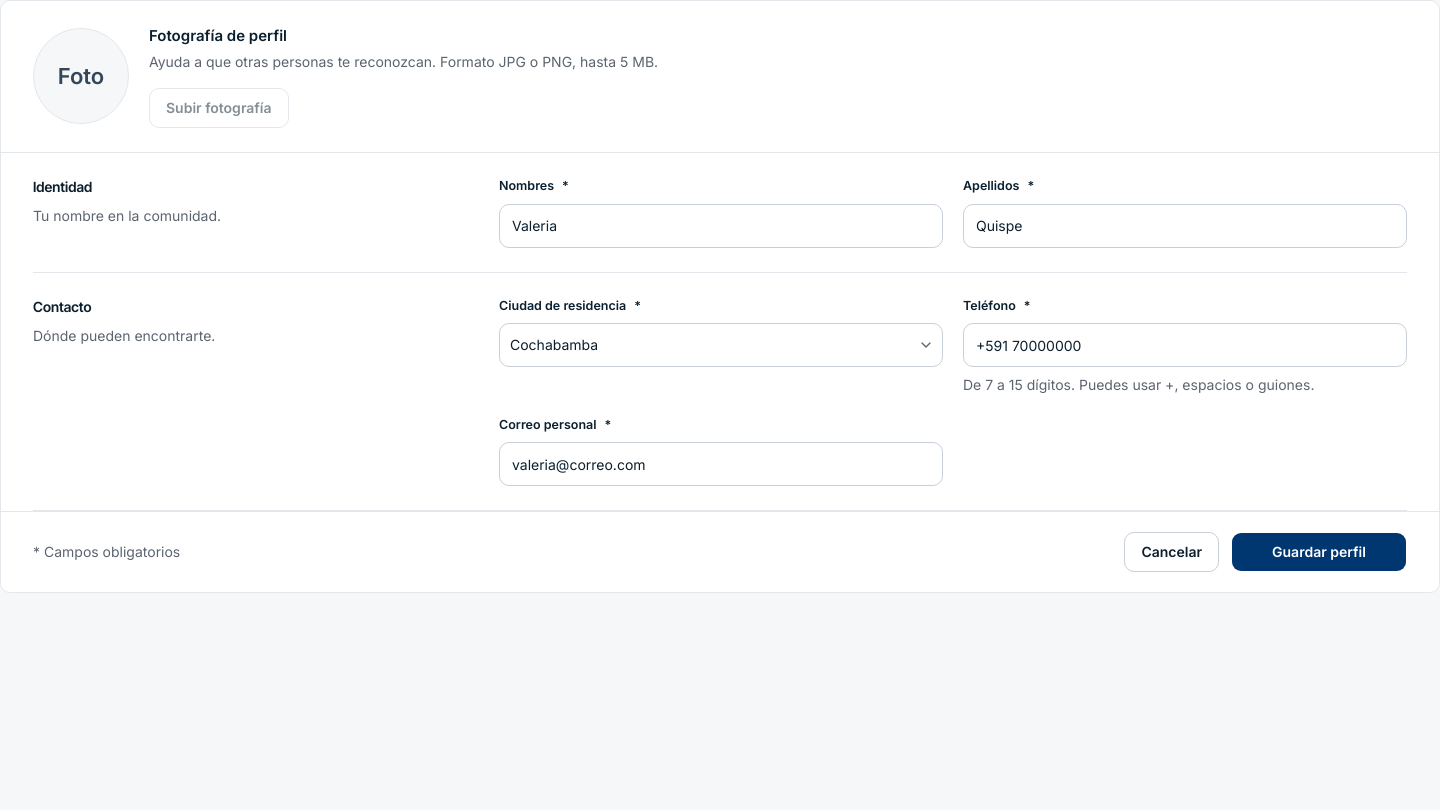
Test: PersonalInfoForm › restores the initial values and clears the errors when cancelling
Clear the field labelled "Nombres *". click: (721, 226)
box: [499,204,943,248]
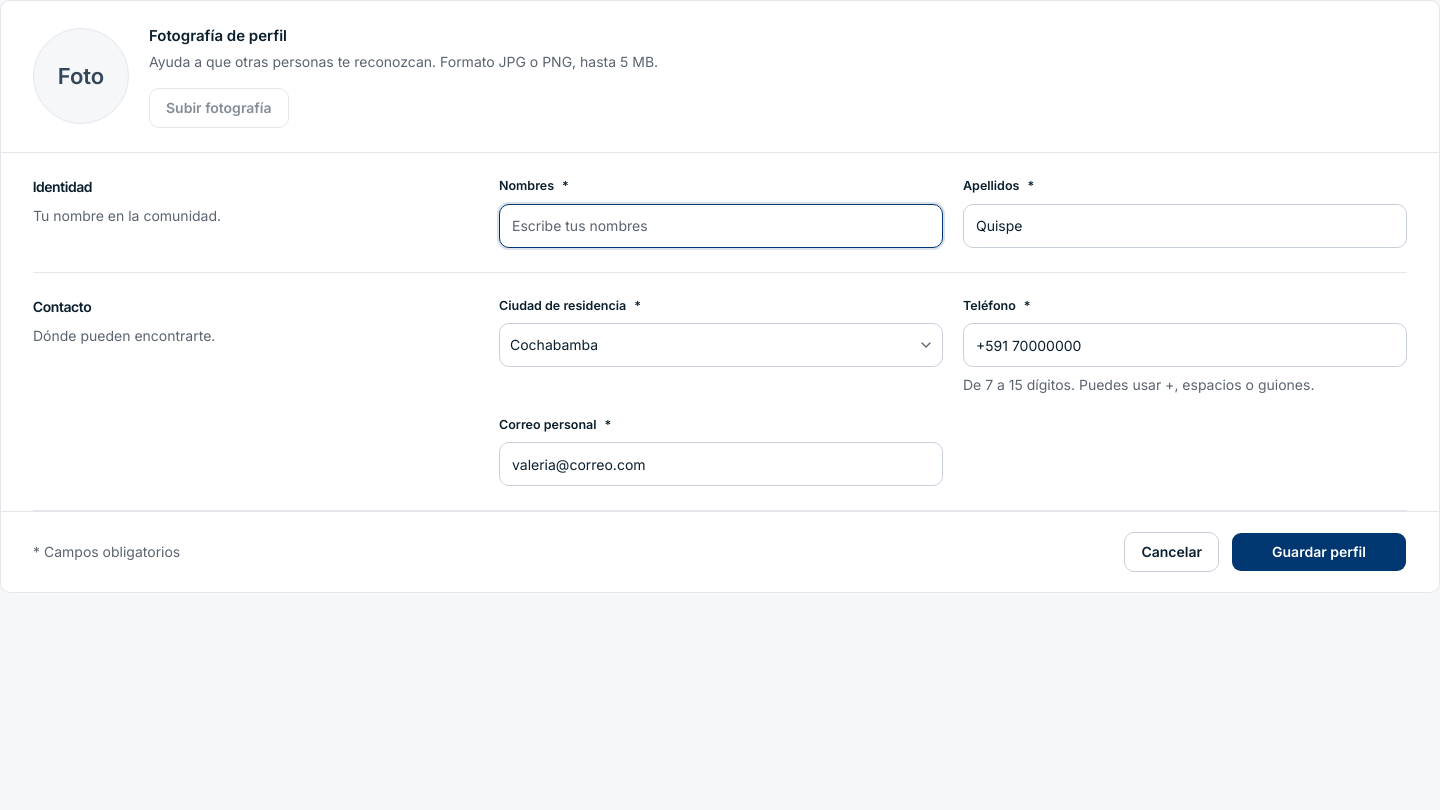
Click the button "Guardar perfil". click: (1319, 552)
box: [1231,532,1407,572]
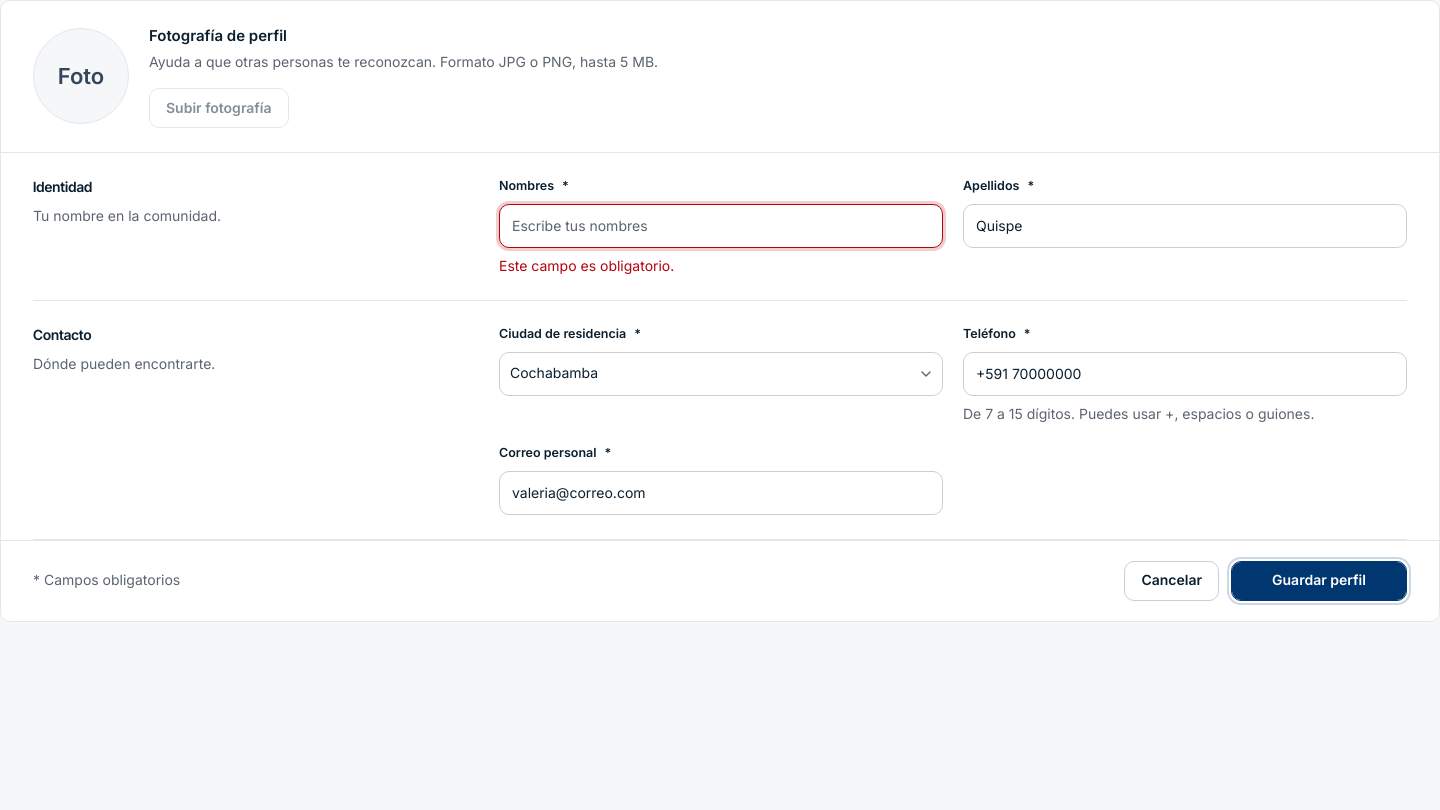
Type "Another name" into the field labelled "Nombres *". click: (721, 226)
box: [499,204,943,248]
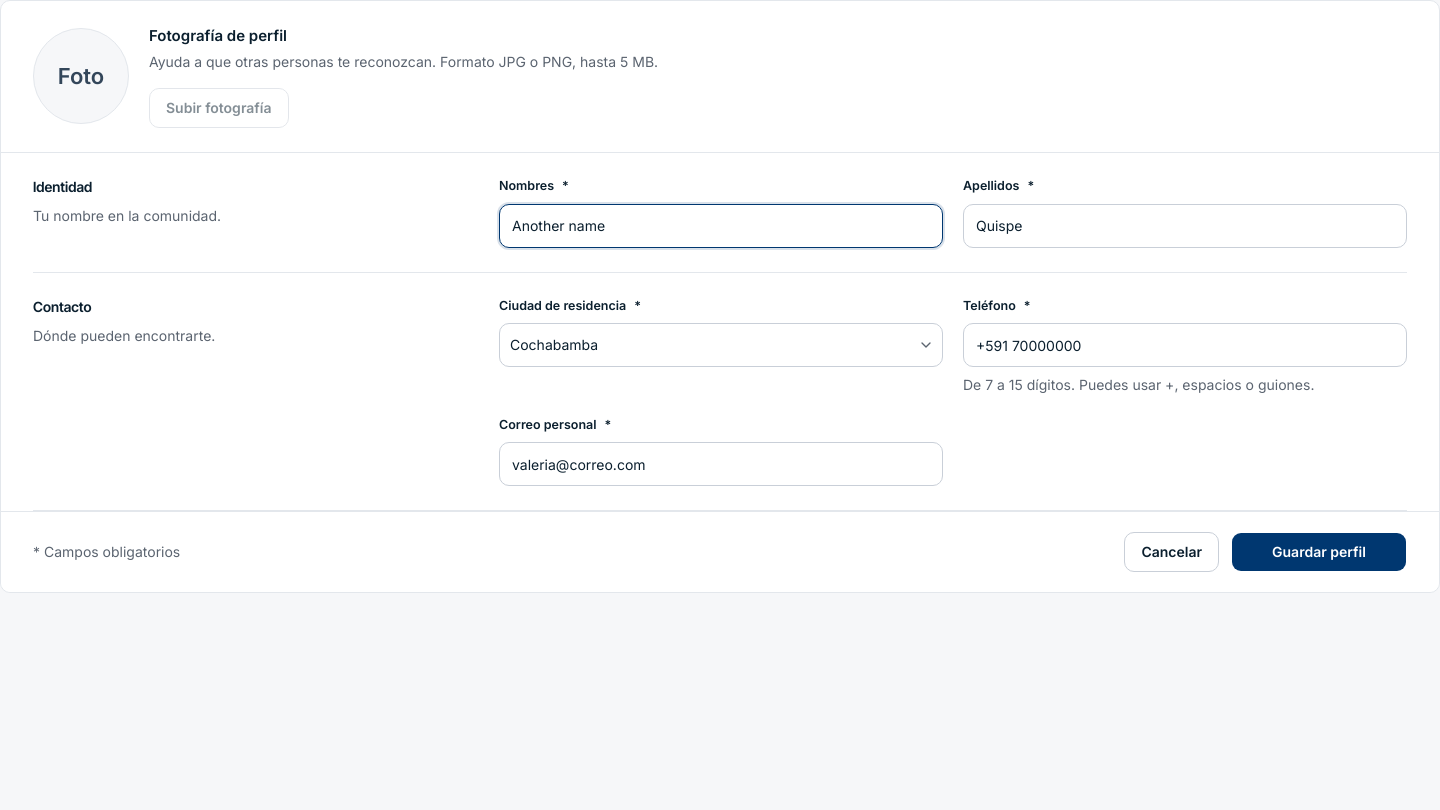
Clear the field labelled "Apellidos *". click: (1185, 226)
box: [963,204,1407,248]
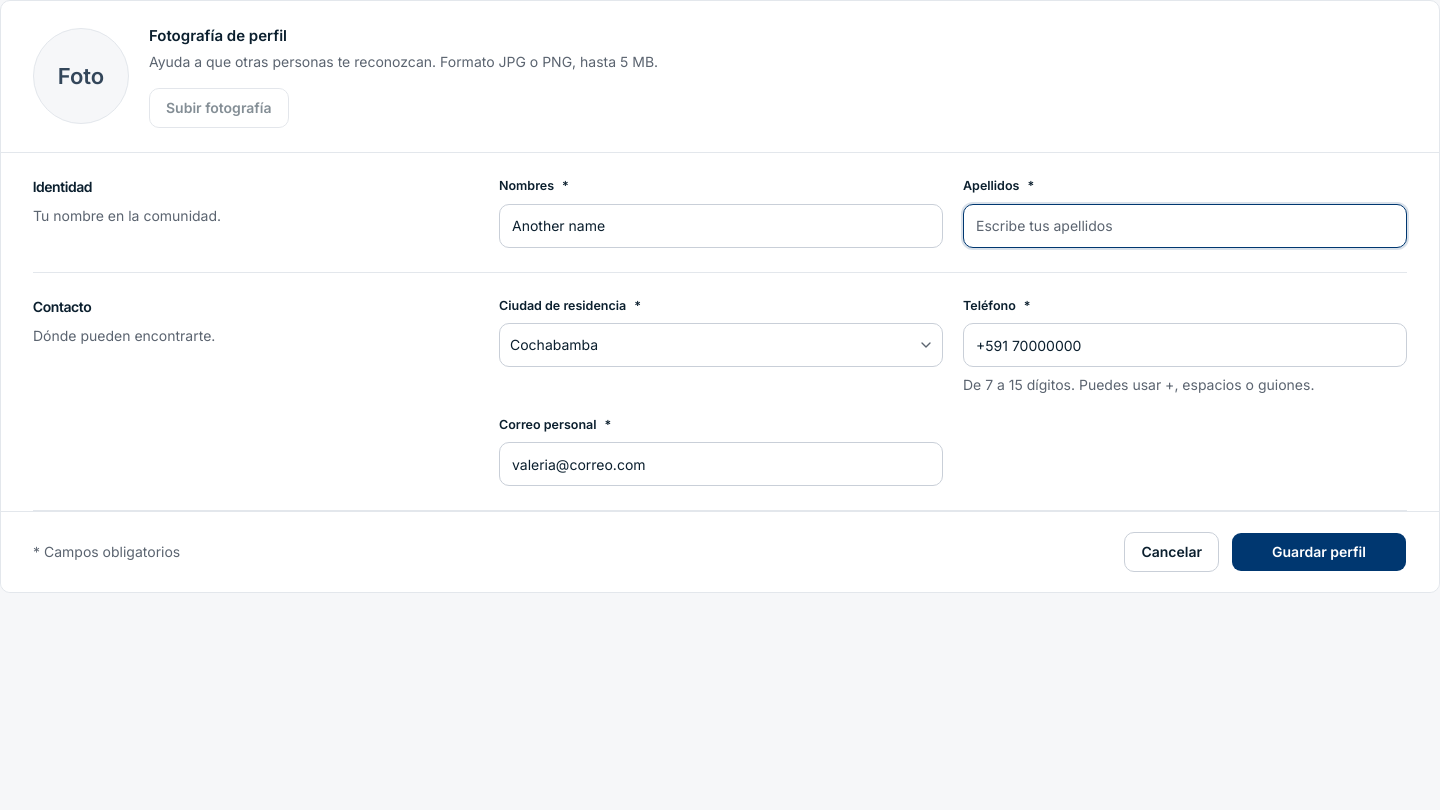
Click the button "Guardar perfil". click: (1319, 552)
box: [1231,532,1407,572]
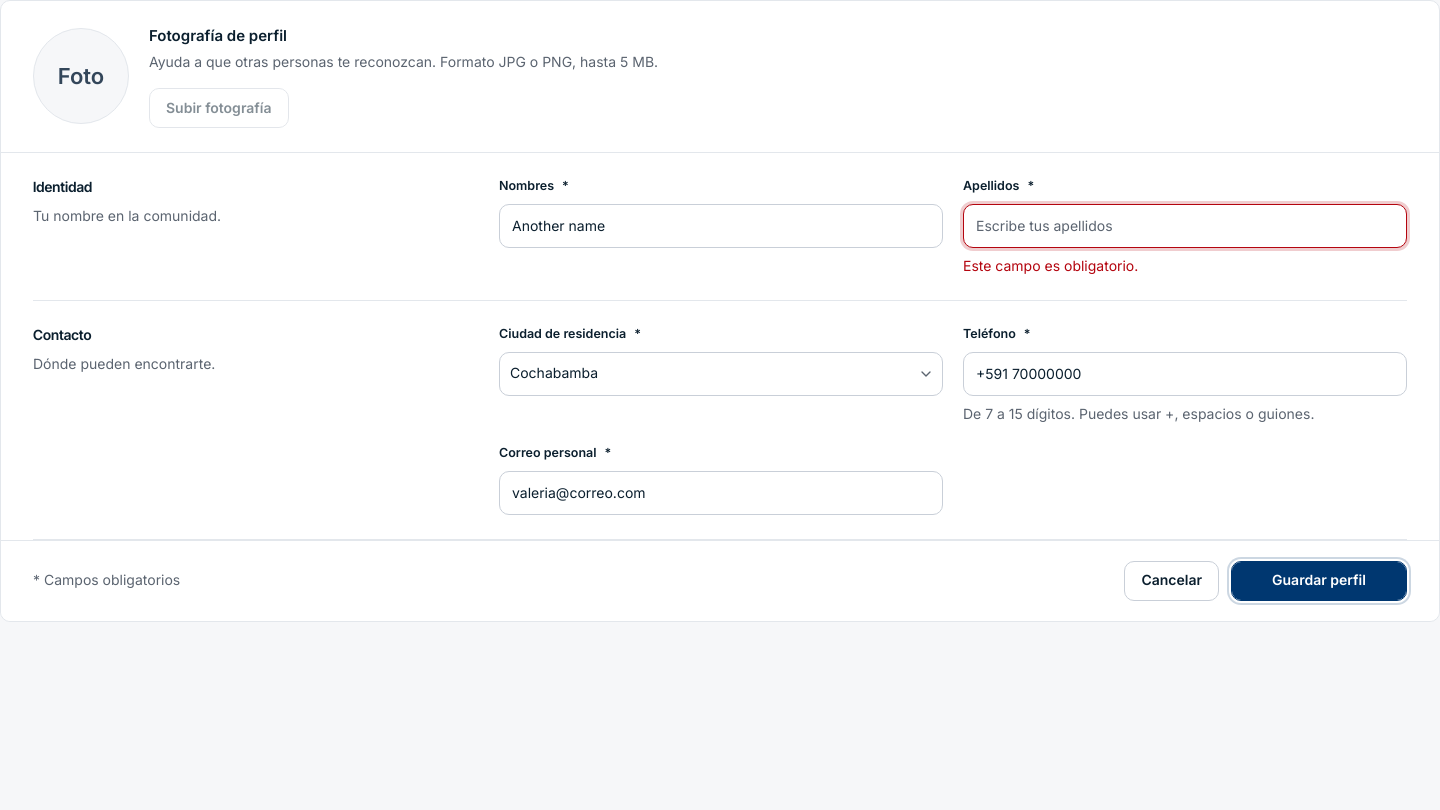
Click the button "Cancelar". click: (1172, 581)
box: [1124,561,1219,601]
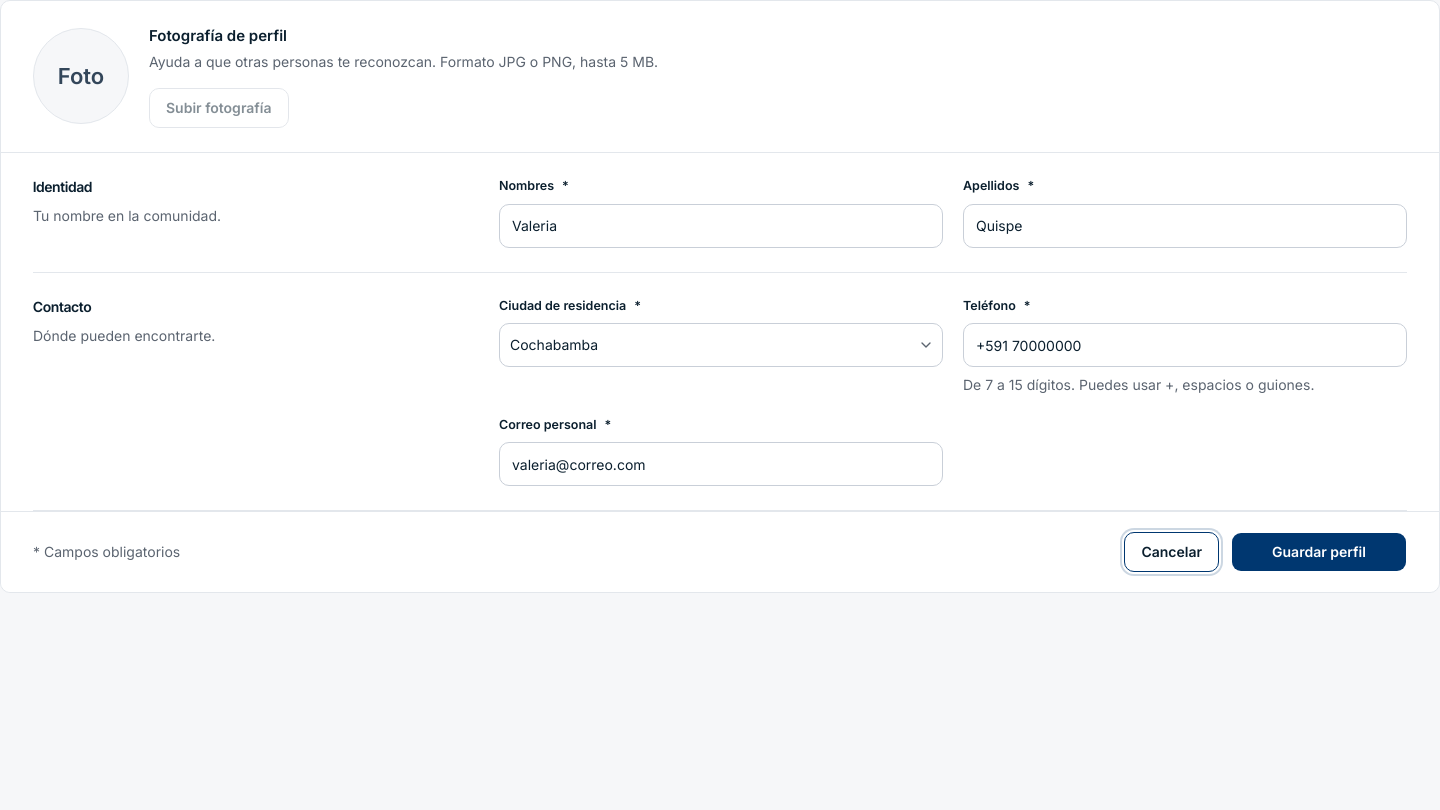
Now the field labelled "Nombres *" holds "Valeria", box [499,204,943,248]
Now the text "Este campo es obligatorio." is gone
